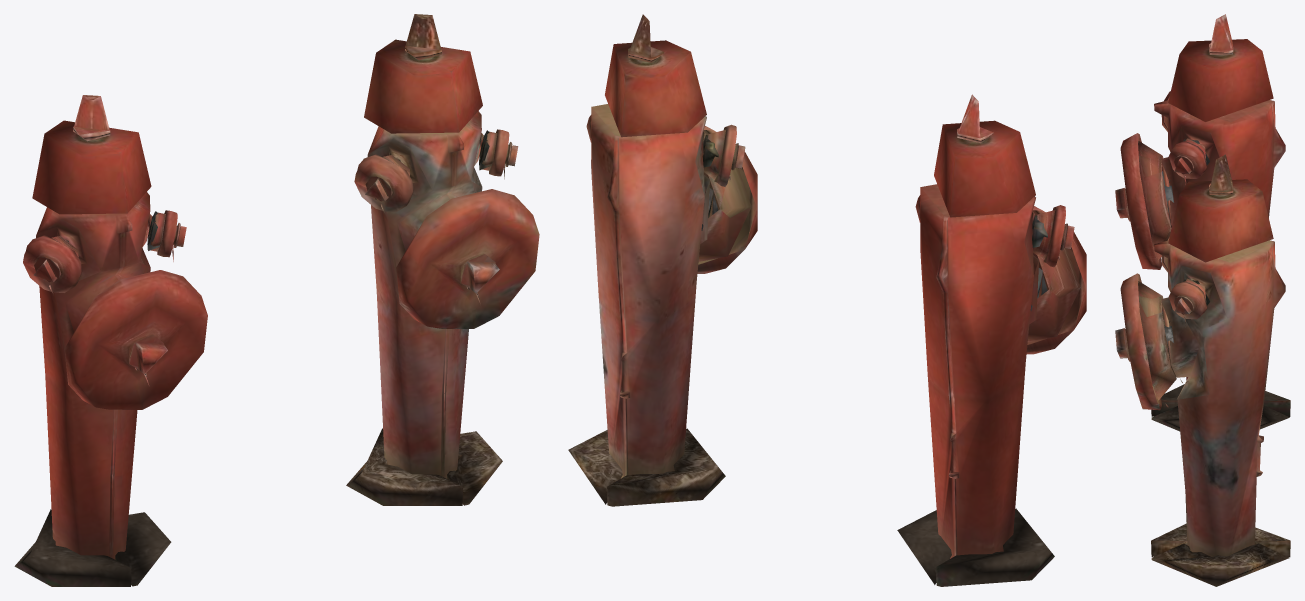
The model's file is fire_hydrant.glb.
The picture shows the model from 3 angles, left to right: view 1: azimuth 30°, elevation 25°; view 2: azimuth 150°, elevation 25°; view 3: azimuth 270°, elevation 25°; orthographic projection. The views are drawn at different scales.
Visible parts, largest first — view 1: fire_hydrant, fire_hydrant_aged, fire_hydrant_cap_01, fire_hydrant_cap_01_aged, fire_hydrant_cap_03_aged, fire_hydrant_cap_03, fire_hydrant_cap_02, fire_hydrant_cap_02_aged; view 2: fire_hydrant, fire_hydrant_aged, fire_hydrant_cap_01, fire_hydrant_cap_01_aged, fire_hydrant_cap_03, fire_hydrant_cap_03_aged; view 3: fire_hydrant_aged, fire_hydrant, fire_hydrant_cap_01_aged, fire_hydrant_cap_01, fire_hydrant_cap_02_aged, fire_hydrant_cap_02.
Boxes of the visible parts, x1,y1,x2,y2 form: fire_hydrant: [14, 95, 171, 586]; fire_hydrant_aged: [346, 14, 502, 505]; fire_hydrant_cap_01: [64, 270, 207, 409]; fire_hydrant_cap_01_aged: [396, 189, 539, 328]; fire_hydrant_cap_03_aged: [354, 154, 413, 212]; fire_hydrant_cap_03: [23, 235, 82, 292]; fire_hydrant_cap_02: [157, 210, 186, 257]; fire_hydrant_cap_02_aged: [489, 129, 518, 176]; fire_hydrant: [897, 94, 1080, 586]; fire_hydrant_aged: [568, 14, 751, 506]; fire_hydrant_cap_01: [1026, 206, 1086, 354]; fire_hydrant_cap_01_aged: [697, 126, 757, 273]; fire_hydrant_cap_03: [1043, 205, 1074, 267]; fire_hydrant_cap_03_aged: [714, 124, 745, 186]; fire_hydrant_aged: [1138, 154, 1290, 586]; fire_hydrant: [1138, 14, 1290, 431]; fire_hydrant_cap_01_aged: [1115, 273, 1161, 410]; fire_hydrant_cap_01: [1115, 133, 1161, 269]; fire_hydrant_cap_02_aged: [1168, 281, 1207, 319]; fire_hydrant_cap_02: [1168, 141, 1207, 178].
Size of the model in its own units: 0.8729 by 0.7992 by 0.3173.
Materials: 2 (2 with a texture image).
